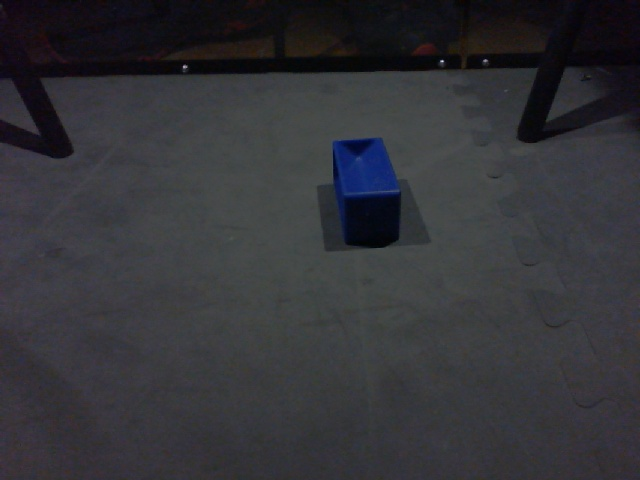BlueSample: (328, 136, 406, 248)
